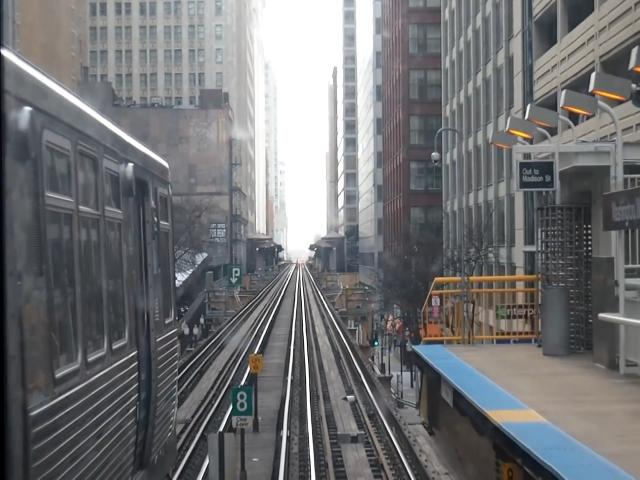signal light: (375, 332, 380, 350)
